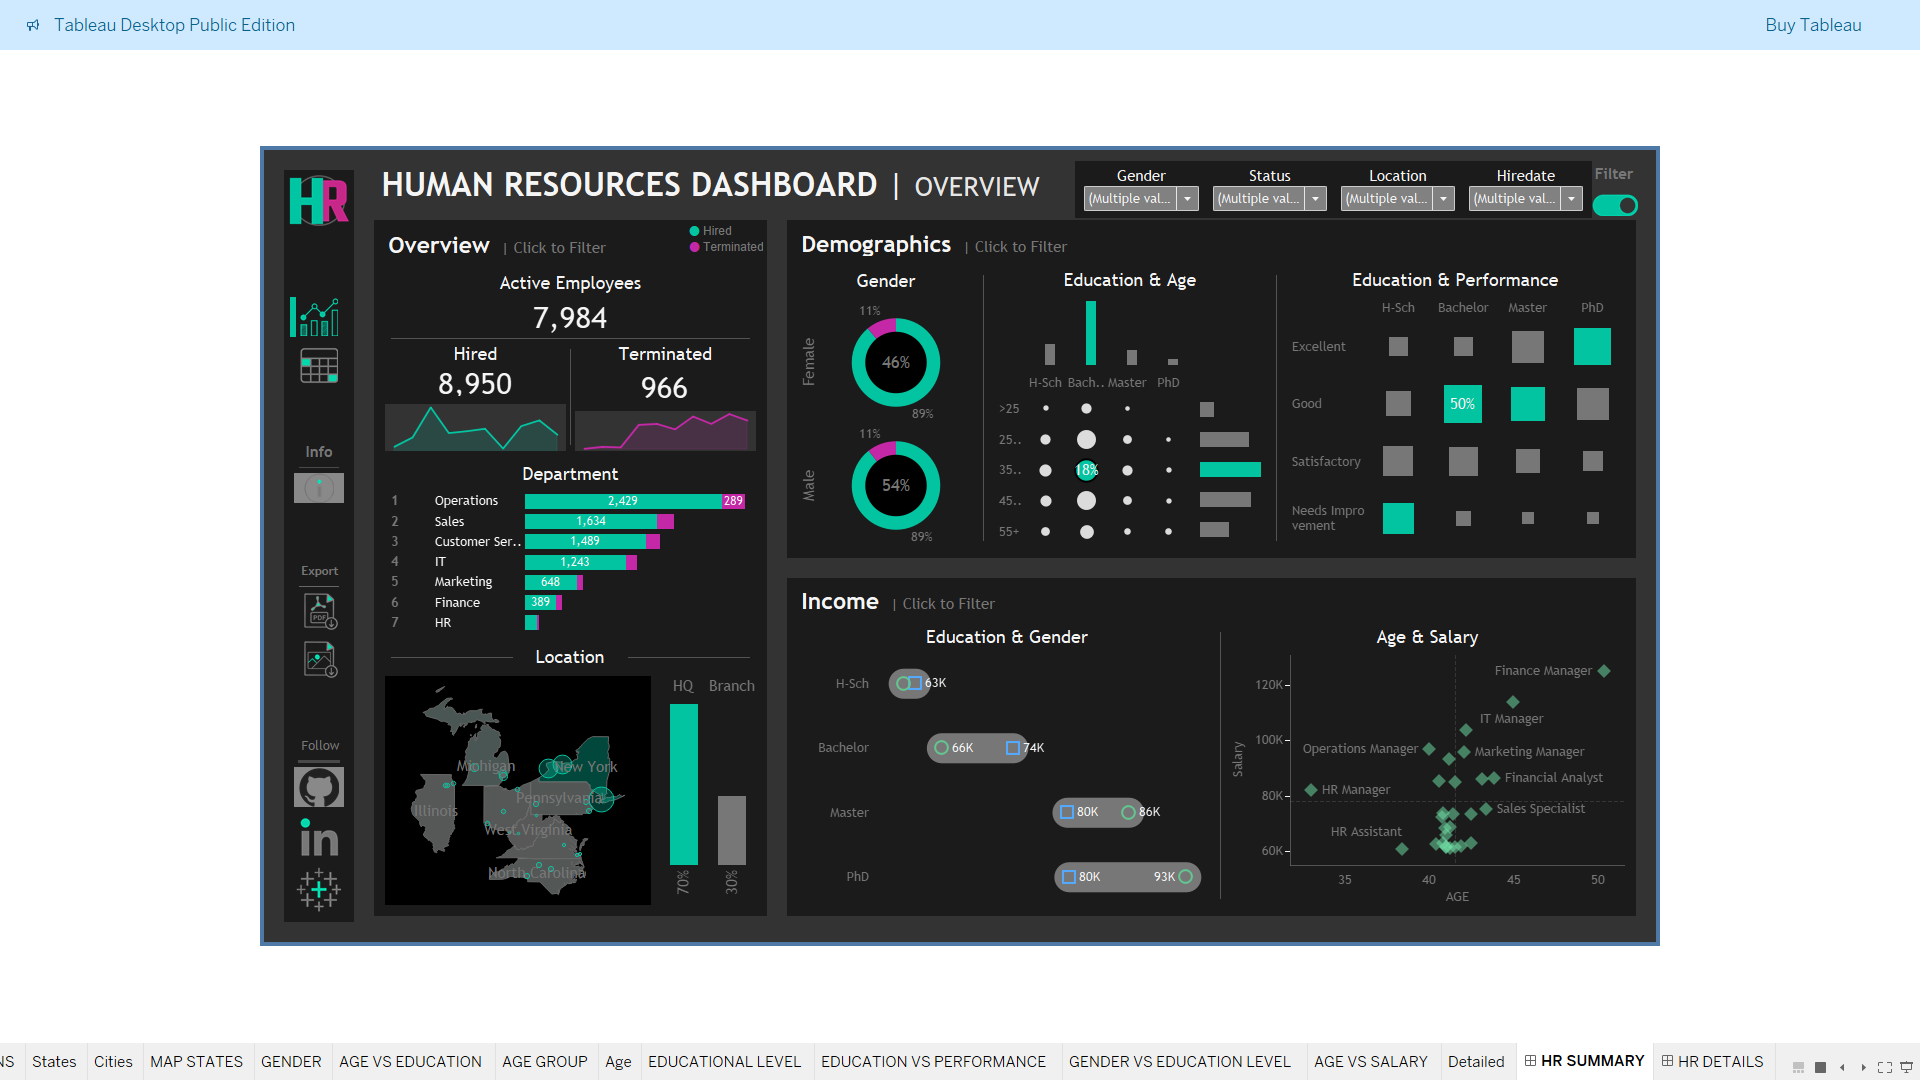

Layout of this report page (visuals, bound fields, positions):
{"tool":"tableau","page":{"name":"HR SUMMARY","canvas":[1400,800],"ordinal":1},"visuals":[{"type":"blank","box":[96,0,1303,254]},{"type":"text","box":[114,4,749,70]},{"type":"blank","box":[863,4,513,70]},{"type":"filter","title":"GENDER VS EDUCATION LEVEL","param":"[federated.1dyx0ip0ym0xc915ak4ub1k6uax2].[none:Gender:nk]","box":[817,17,129,53]},{"type":"filter","title":"GENDER VS EDUCATION LEVEL","param":"[federated.1dyx0ip0ym0xc915ak4ub1k6uax2].[none:Calculation_1331939641179201536:n","box":[946,17,128,53]},{"type":"filter","title":"GENDER VS EDUCATION LEVEL","param":"[federated.1dyx0ip0ym0xc915ak4ub1k6uax2].[none:Calculation_1377820062222340103:n","box":[1074,17,128,53]},{"type":"filter","title":"GENDER VS EDUCATION LEVEL","param":"[federated.1dyx0ip0ym0xc915ak4ub1k6uax2].[yr:Hiredate:ok]","box":[1202,17,128,53]},{"type":"text","box":[1325,18,58,19]},{"type":"image","param":"Image/Logo.png","box":[24,24,70,60]},{"type":"dashboard-object","box":[1332,32,46,56]},{"type":"text","box":[426,78,77,33]},{"type":"text","box":[121,81,379,35]},{"type":"text","box":[534,81,835,33]},{"type":"blank","box":[34,94,50,58]},{"type":"text","box":[121,116,379,35]},{"type":"text","box":[534,119,184,32]},{"type":"blank","box":[723,119,1,286]},{"type":"text","box":[729,119,282,29]},{"type":"blank","box":[1016,119,1,286]},{"type":"text","box":[1022,119,347,29]},{"type":"worksheet","title":"EDUCATIONAL LEVEL","mark":"Bar","rows":["Calculation_1377820062211092480"],"cols":["Education Level"],"box":[729,148,282,75]},{"type":"worksheet","title":"EDUCATION VS PERFORMANCE","mark":"Square","rows":["Performance Rating"],"cols":["Education Level"],"box":[1022,148,347,257]},{"type":"blank","box":[30,151,6,40]},{"type":"worksheet","title":"BAN ACTIVE","mark":"Text","box":[121,151,379,41]},{"type":"worksheet","title":"GENDER","mark":"Pie","rows":["Gender"],"cols":["Calculation_1377820062230949903","Calculation_1377820062230949903"],"box":[534,151,184,254]},{"type":"dashboard-object","box":[34,152,50,38]},{"type":"blank","box":[34,190,50,10]},{"type":"blank","box":[121,192,379,1]},{"type":"text","box":[121,193,189,29]},{"type":"blank","box":[310,193,1,116]},{"type":"text","box":[311,193,188.9,29]},{"type":"dashboard-object","box":[34,200,50,38]},{"type":"worksheet","title":"BAN HIRED","mark":"Text","box":[121,222,189,32]},{"type":"worksheet","title":"BAN TERMINATED","mark":"Text","box":[311,222,188.9,39]},{"type":"worksheet","title":"AGE VS EDUCATION","mark":"Circle","rows":["Calculation_1377820062236983313"],"cols":["Education Level"],"box":[729,223,204,182]},{"type":"worksheet","title":"AGE GROUP","mark":"Bar","rows":["Calculation_1377820062236983313"],"cols":["Calculation_1377820062211092480"],"box":[933,223,78,182]},{"type":"blank","box":[34,238,50,58]},{"type":"text","box":[96,254,1303,318]},{"type":"worksheet","title":"HIRED BY YEAR","mark":"Line","rows":["Calculation_1377820062211092480","Calculation_1377820062211092480"],"cols":["Hiredate"],"box":[121,254,189,55]},{"type":"worksheet","title":"TERMINATED BY YEAR","mark":"Line","rows":["Calculation_1377820062211571713","Calculation_1377820062211571713"],"cols":["Termdate"],"box":[311,261,188.9,48]},{"type":"text","box":[34,296,50,20]},{"type":"blank","box":[131,314,121,27]},{"type":"text","box":[252,314,117,27]},{"type":"blank","box":[369,314,121,27]},{"type":"blank","box":[34,316,50,11]},{"type":"dashboard-object","box":[34,327,50,30]},{"type":"worksheet","title":"DEPARTMENTS","mark":"Bar","rows":["Calculation_1377820062221017094","Department"],"cols":["Calculation_1377820062211092480"],"box":[121,341,379,150]},{"type":"blank","box":[34,357,50,58]},{"type":"text","box":[34,415,50,20]},{"type":"blank","box":[34,435,50,11]},{"type":"text","box":[534,439,835,32]},{"type":"dashboard-object","box":[34,446,50,38]},{"type":"text","box":[534,476,426,29]},{"type":"blank","box":[960,476,1,287]},{"type":"text","box":[966,476,403,29]},{"type":"blank","box":[34,484,50,10]},{"type":"dashboard-object","box":[34,494,50,38]},{"type":"blank","box":[131,496,122.3,30]},{"type":"text","box":[253.3,496,114.3,30]},{"type":"blank","box":[367.7,496,122.3,30]},{"type":"worksheet","title":"GENDER VS EDUCATION LEVEL","mark":"Square","rows":["Education Level"],"cols":["Salary","Salary"],"box":[534,505,426,258]},{"type":"worksheet","title":"AGE VS SALARY","mark":"Shape","rows":["Salary"],"cols":["Calculation_1377820062235906064"],"box":[966,505,403,258]},{"type":"worksheet","title":"MAP STATES","mark":"Automatic","box":[121,526,274.1,237]},{"type":"worksheet","title":"LOCATIONS","mark":"Bar","rows":["Calculation_1377820062211092480"],"cols":["Calculation_1377820062222340103","Calculation1"],"box":[395.1,526,104.9,237]},{"type":"blank","box":[34,532,50,58]},{"type":"blank","box":[96,572,1303,228]},{"type":"text","box":[34,590,50,20]},{"type":"blank","box":[34,610,50,11]},{"type":"image","param":"Image/github.png","box":[34,621,50,40]},{"type":"blank","box":[34,661,50,10]},{"type":"image","param":"Image/contact-linkedin.png","box":[34,671,50,40]},{"type":"blank","box":[34,711,50,10]},{"type":"image","param":"Image/contact-public.png","box":[34,721,50,45]}]}

Visuals, with their boxes on the page's 1400x800 design canvas (x1, y1, x2, y2). These are canvas units, not pixel positions in the 1920x1080 screenshot, which may show the page scaled, cropped or inside an application window:
blank: {"left": 96, "top": 0, "right": 1399, "bottom": 254}
text: {"left": 114, "top": 4, "right": 863, "bottom": 74}
blank: {"left": 863, "top": 4, "right": 1376, "bottom": 74}
"GENDER VS EDUCATION LEVEL" filter: {"left": 817, "top": 17, "right": 946, "bottom": 70}
"GENDER VS EDUCATION LEVEL" filter: {"left": 946, "top": 17, "right": 1074, "bottom": 70}
"GENDER VS EDUCATION LEVEL" filter: {"left": 1074, "top": 17, "right": 1202, "bottom": 70}
"GENDER VS EDUCATION LEVEL" filter: {"left": 1202, "top": 17, "right": 1330, "bottom": 70}
text: {"left": 1325, "top": 18, "right": 1383, "bottom": 37}
image: {"left": 24, "top": 24, "right": 94, "bottom": 84}
dashboard-object: {"left": 1332, "top": 32, "right": 1378, "bottom": 88}
text: {"left": 426, "top": 78, "right": 503, "bottom": 111}
text: {"left": 121, "top": 81, "right": 500, "bottom": 116}
text: {"left": 534, "top": 81, "right": 1369, "bottom": 114}
blank: {"left": 34, "top": 94, "right": 84, "bottom": 152}
text: {"left": 121, "top": 116, "right": 500, "bottom": 151}
text: {"left": 534, "top": 119, "right": 718, "bottom": 151}
blank: {"left": 723, "top": 119, "right": 724, "bottom": 405}
text: {"left": 729, "top": 119, "right": 1011, "bottom": 148}
blank: {"left": 1016, "top": 119, "right": 1017, "bottom": 405}
text: {"left": 1022, "top": 119, "right": 1369, "bottom": 148}
"EDUCATIONAL LEVEL" worksheet (Bar marks): {"left": 729, "top": 148, "right": 1011, "bottom": 223}
"EDUCATION VS PERFORMANCE" worksheet (Square marks): {"left": 1022, "top": 148, "right": 1369, "bottom": 405}
blank: {"left": 30, "top": 151, "right": 36, "bottom": 191}
"BAN ACTIVE" worksheet (Text marks): {"left": 121, "top": 151, "right": 500, "bottom": 192}
"GENDER" worksheet (Pie marks): {"left": 534, "top": 151, "right": 718, "bottom": 405}
dashboard-object: {"left": 34, "top": 152, "right": 84, "bottom": 190}
blank: {"left": 34, "top": 190, "right": 84, "bottom": 200}
blank: {"left": 121, "top": 192, "right": 500, "bottom": 193}
text: {"left": 121, "top": 193, "right": 310, "bottom": 222}
blank: {"left": 310, "top": 193, "right": 311, "bottom": 309}
text: {"left": 311, "top": 193, "right": 500, "bottom": 222}
dashboard-object: {"left": 34, "top": 200, "right": 84, "bottom": 238}
"BAN HIRED" worksheet (Text marks): {"left": 121, "top": 222, "right": 310, "bottom": 254}
"BAN TERMINATED" worksheet (Text marks): {"left": 311, "top": 222, "right": 500, "bottom": 261}
"AGE VS EDUCATION" worksheet (Circle marks): {"left": 729, "top": 223, "right": 933, "bottom": 405}
"AGE GROUP" worksheet (Bar marks): {"left": 933, "top": 223, "right": 1011, "bottom": 405}
blank: {"left": 34, "top": 238, "right": 84, "bottom": 296}
text: {"left": 96, "top": 254, "right": 1399, "bottom": 572}
"HIRED BY YEAR" worksheet (Line marks): {"left": 121, "top": 254, "right": 310, "bottom": 309}
"TERMINATED BY YEAR" worksheet (Line marks): {"left": 311, "top": 261, "right": 500, "bottom": 309}
text: {"left": 34, "top": 296, "right": 84, "bottom": 316}
blank: {"left": 131, "top": 314, "right": 252, "bottom": 341}
text: {"left": 252, "top": 314, "right": 369, "bottom": 341}
blank: {"left": 369, "top": 314, "right": 490, "bottom": 341}
blank: {"left": 34, "top": 316, "right": 84, "bottom": 327}
dashboard-object: {"left": 34, "top": 327, "right": 84, "bottom": 357}
"DEPARTMENTS" worksheet (Bar marks): {"left": 121, "top": 341, "right": 500, "bottom": 491}
blank: {"left": 34, "top": 357, "right": 84, "bottom": 415}
text: {"left": 34, "top": 415, "right": 84, "bottom": 435}
blank: {"left": 34, "top": 435, "right": 84, "bottom": 446}
text: {"left": 534, "top": 439, "right": 1369, "bottom": 471}
dashboard-object: {"left": 34, "top": 446, "right": 84, "bottom": 484}
text: {"left": 534, "top": 476, "right": 960, "bottom": 505}
blank: {"left": 960, "top": 476, "right": 961, "bottom": 763}
text: {"left": 966, "top": 476, "right": 1369, "bottom": 505}
blank: {"left": 34, "top": 484, "right": 84, "bottom": 494}
dashboard-object: {"left": 34, "top": 494, "right": 84, "bottom": 532}
blank: {"left": 131, "top": 496, "right": 253, "bottom": 526}
text: {"left": 253, "top": 496, "right": 368, "bottom": 526}
blank: {"left": 368, "top": 496, "right": 490, "bottom": 526}
"GENDER VS EDUCATION LEVEL" worksheet (Square marks): {"left": 534, "top": 505, "right": 960, "bottom": 763}
"AGE VS SALARY" worksheet (Shape marks): {"left": 966, "top": 505, "right": 1369, "bottom": 763}
"MAP STATES" worksheet: {"left": 121, "top": 526, "right": 395, "bottom": 763}
"LOCATIONS" worksheet (Bar marks): {"left": 395, "top": 526, "right": 500, "bottom": 763}
blank: {"left": 34, "top": 532, "right": 84, "bottom": 590}
blank: {"left": 96, "top": 572, "right": 1399, "bottom": 800}
text: {"left": 34, "top": 590, "right": 84, "bottom": 610}
blank: {"left": 34, "top": 610, "right": 84, "bottom": 621}
image: {"left": 34, "top": 621, "right": 84, "bottom": 661}
blank: {"left": 34, "top": 661, "right": 84, "bottom": 671}
image: {"left": 34, "top": 671, "right": 84, "bottom": 711}
blank: {"left": 34, "top": 711, "right": 84, "bottom": 721}
image: {"left": 34, "top": 721, "right": 84, "bottom": 766}
